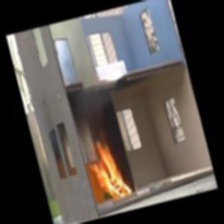fire: (86, 135, 136, 205)
